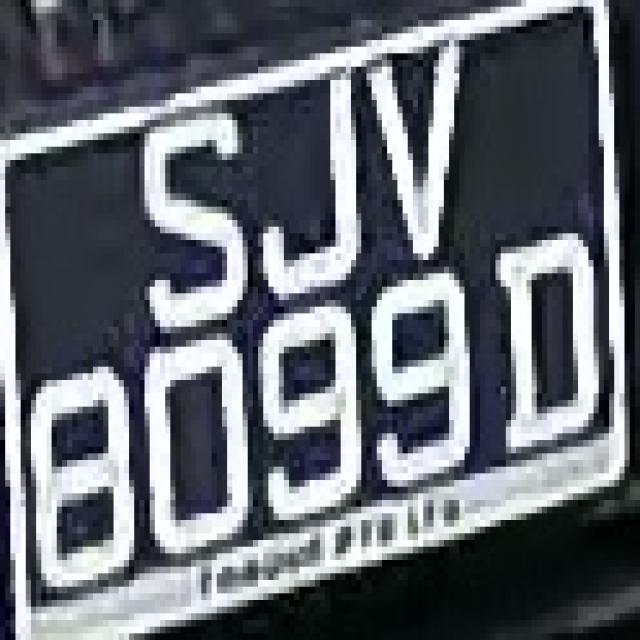0: (129, 313, 258, 567)
8: (20, 380, 150, 593)
9: (232, 293, 382, 540), (356, 254, 485, 494)
D: (501, 233, 614, 467)
J: (253, 73, 377, 287)
S: (119, 100, 248, 320)
V: (366, 27, 491, 246)
